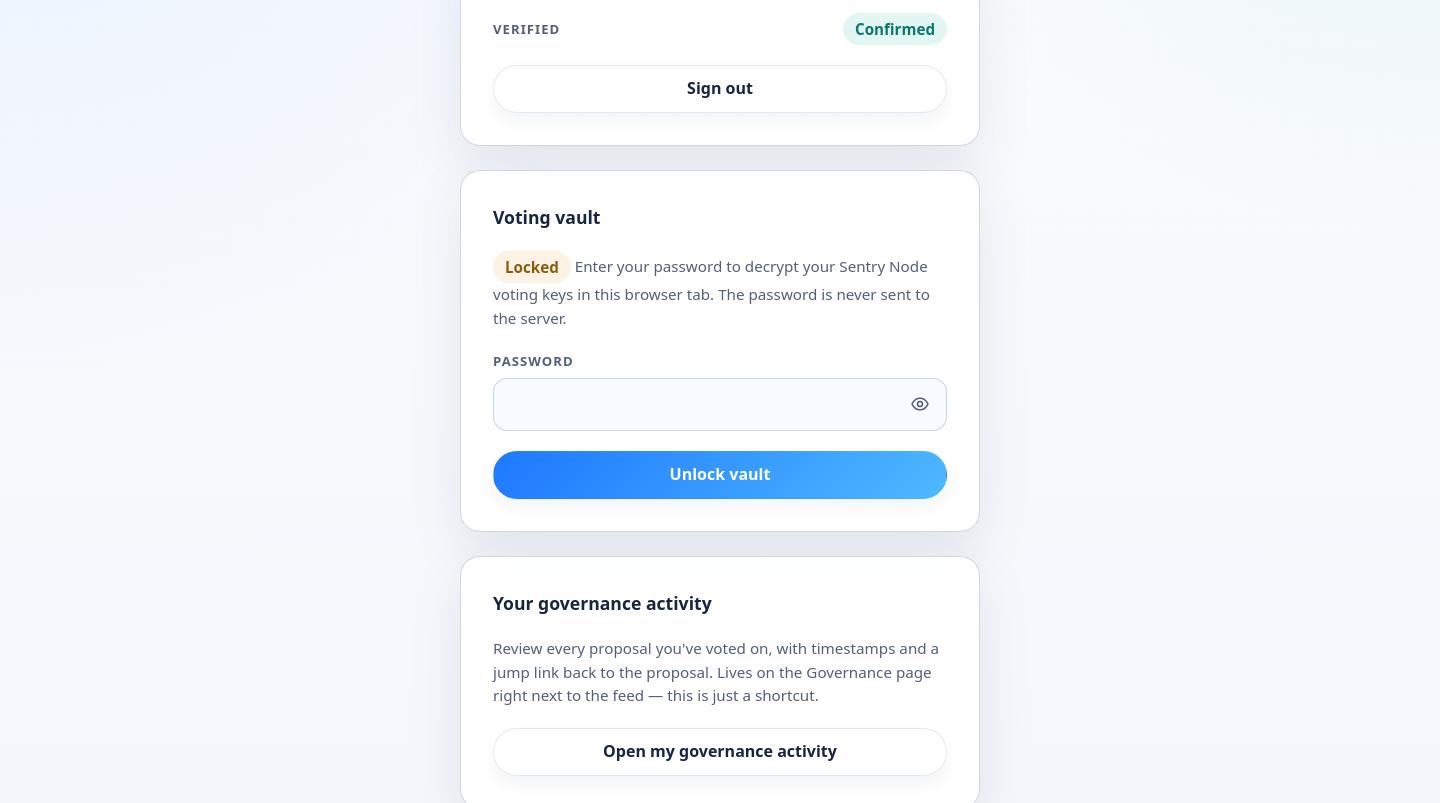
it: Account page — vault status card › shows a friendly error and stays LOCKED on a wrong password
This screenshot has width=1440, height=803.
(page scrolled)
Expected: the form with test id "vault-status-card" is shown, [460,170,980,532]
Type "wrong" into the password field labelled "Password". click: (720, 404)
box: [493,378,947,431]
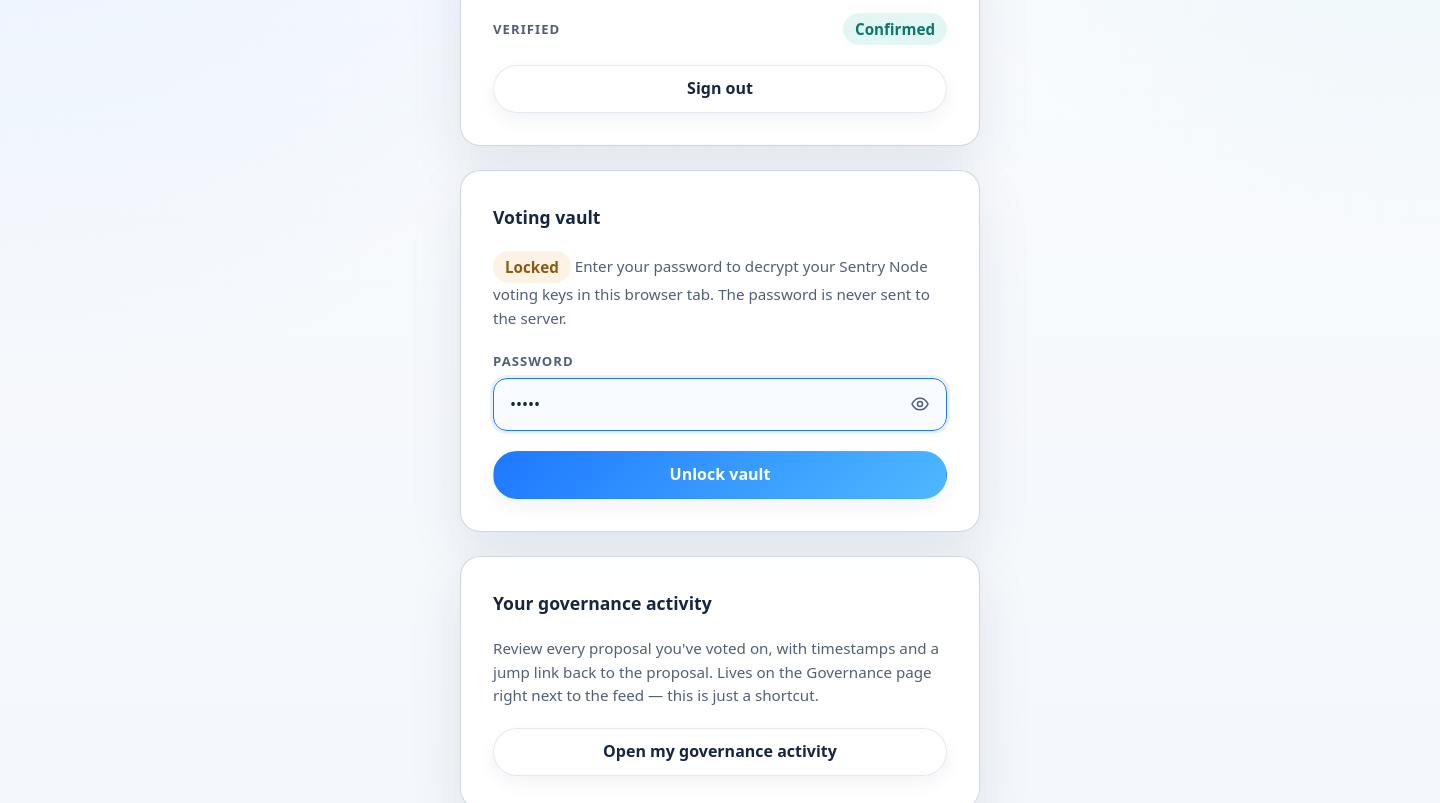
Click the button with test id "vault-unlock". click: click(720, 475)
box: [493,451,947,499]
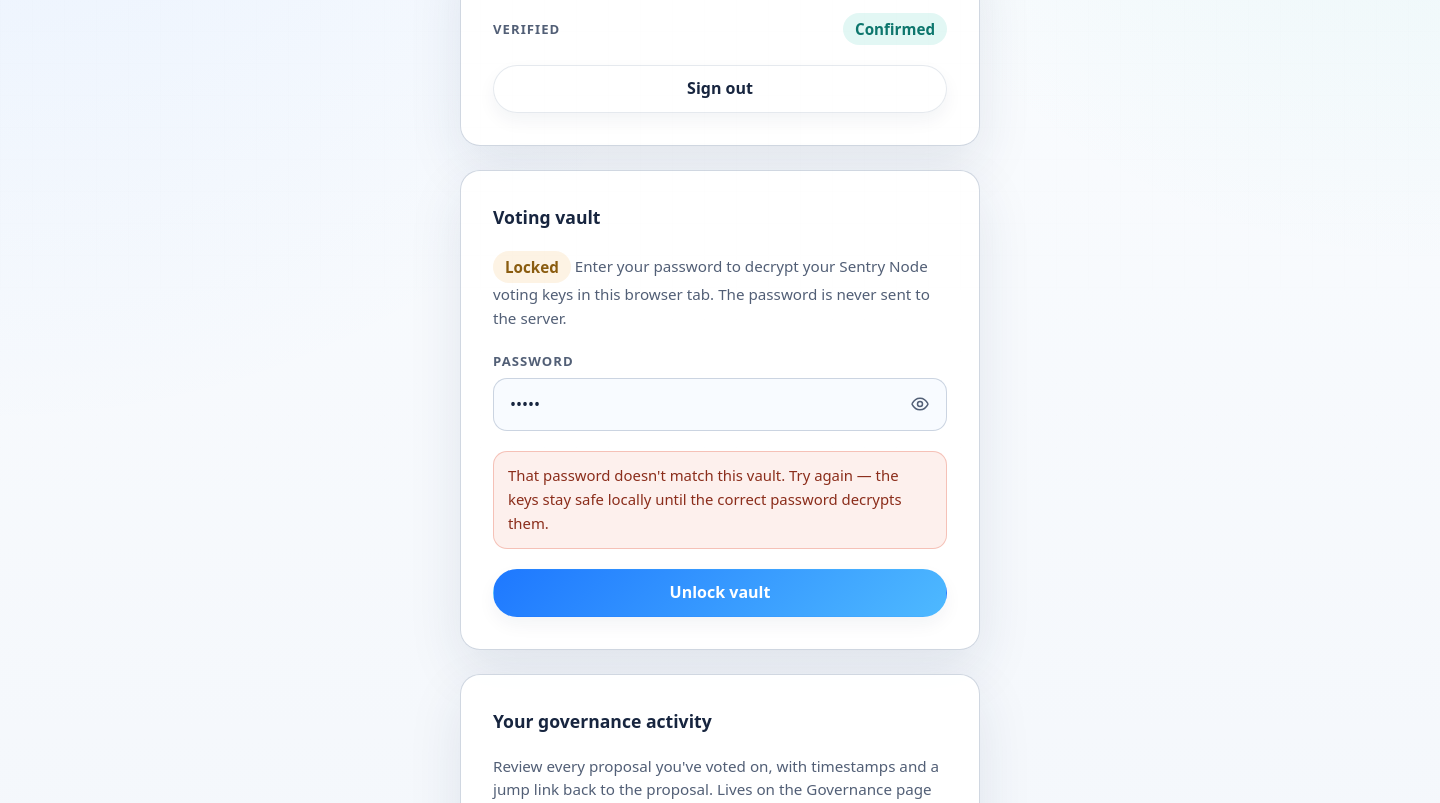
Expected: the message with test id "vault-unlock-error" shows "password doesn't match", [508,465,902,533]
